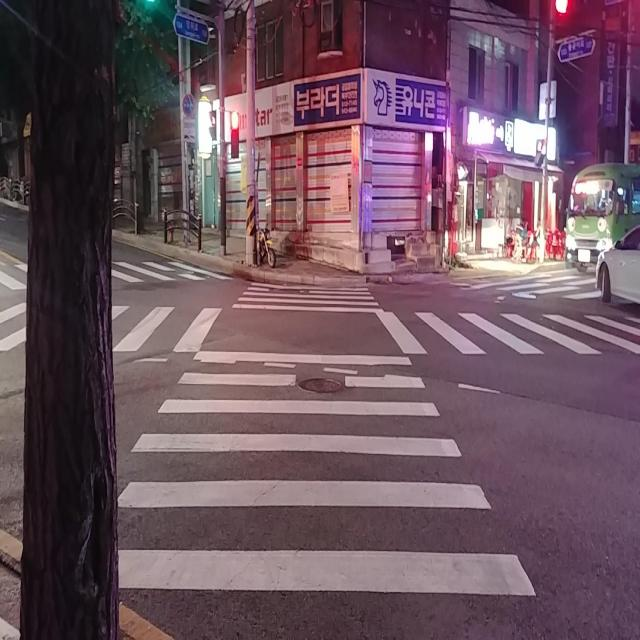횡단보도: (93, 276, 540, 606)
